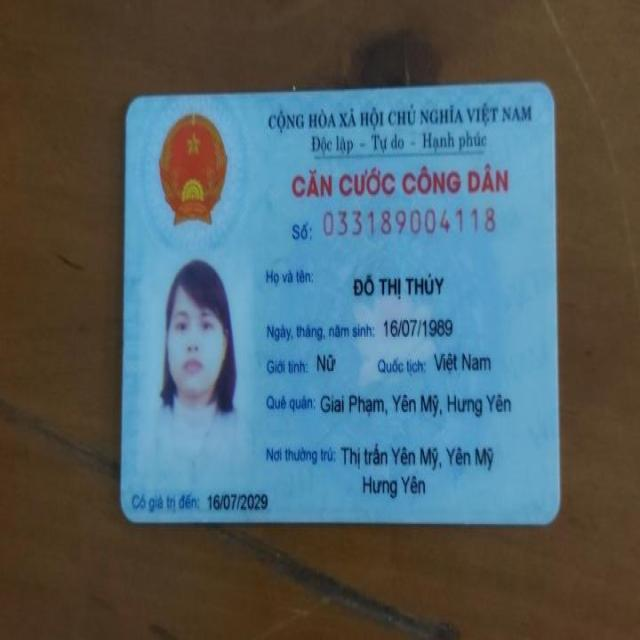bottom_left: (110, 496, 146, 534)
bottom_right: (528, 492, 570, 540)
image_person: (138, 254, 258, 483)
top_left: (115, 84, 153, 130)
top_right: (522, 68, 568, 117)
